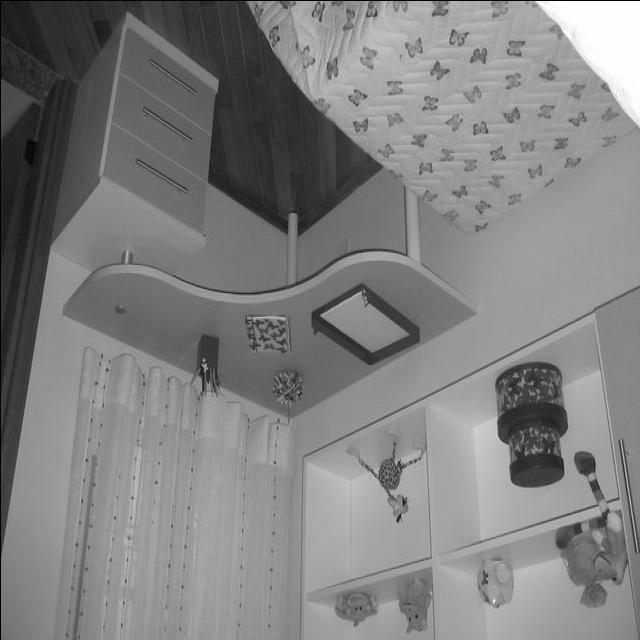table: (61, 180, 472, 424)
